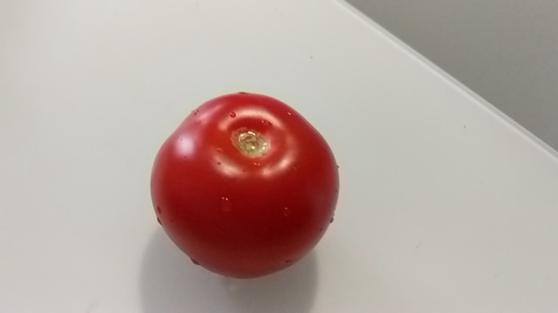tomato: (156, 91, 344, 282)
